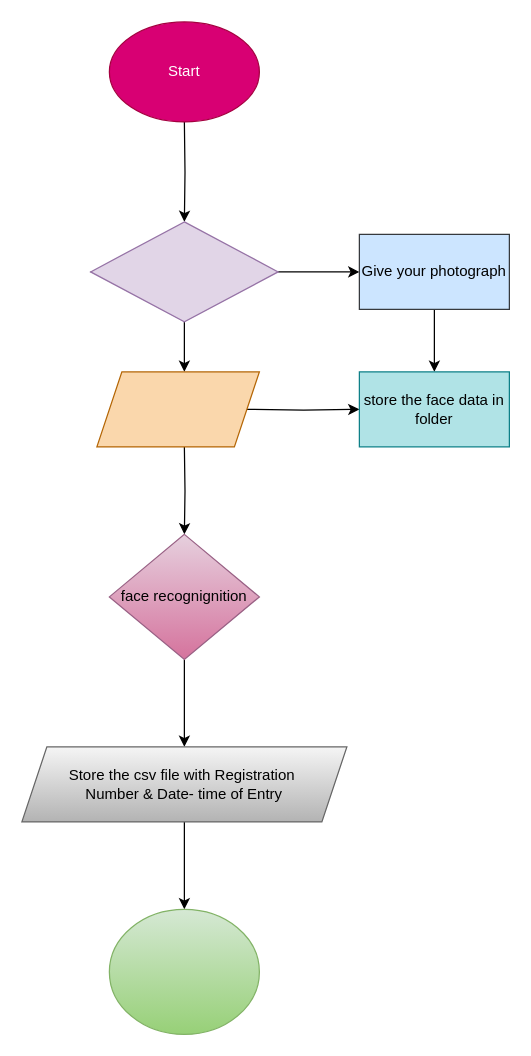
The diagram is 531 pixels wide and 1056 high, and some of its shapes have lost their labels. The box of each missing label's shape, as (x1, y1, x2, y2) in pixels:
End: (108, 908, 259, 1034)
new user ?: (89, 221, 278, 322)
Recognize the face: (96, 371, 259, 447)
